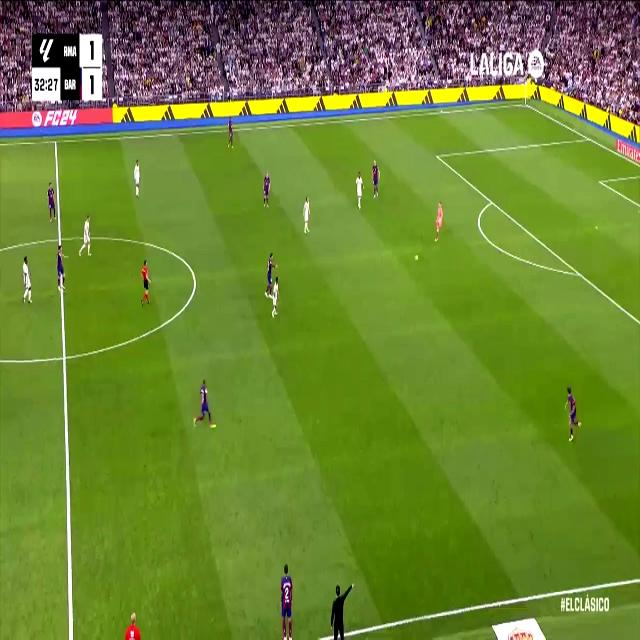bigarea_top_inner: (433, 148, 441, 163)
bottom_arc_area_intersection: (574, 264, 583, 282)
halfcircle_bottom: (59, 344, 70, 369)
halfcircle_top: (54, 229, 64, 248)
midline_top_intersection: (53, 136, 59, 148)
smallarea_top_inner: (596, 174, 604, 187)
top_arc_area_intersection: (488, 194, 496, 208)
